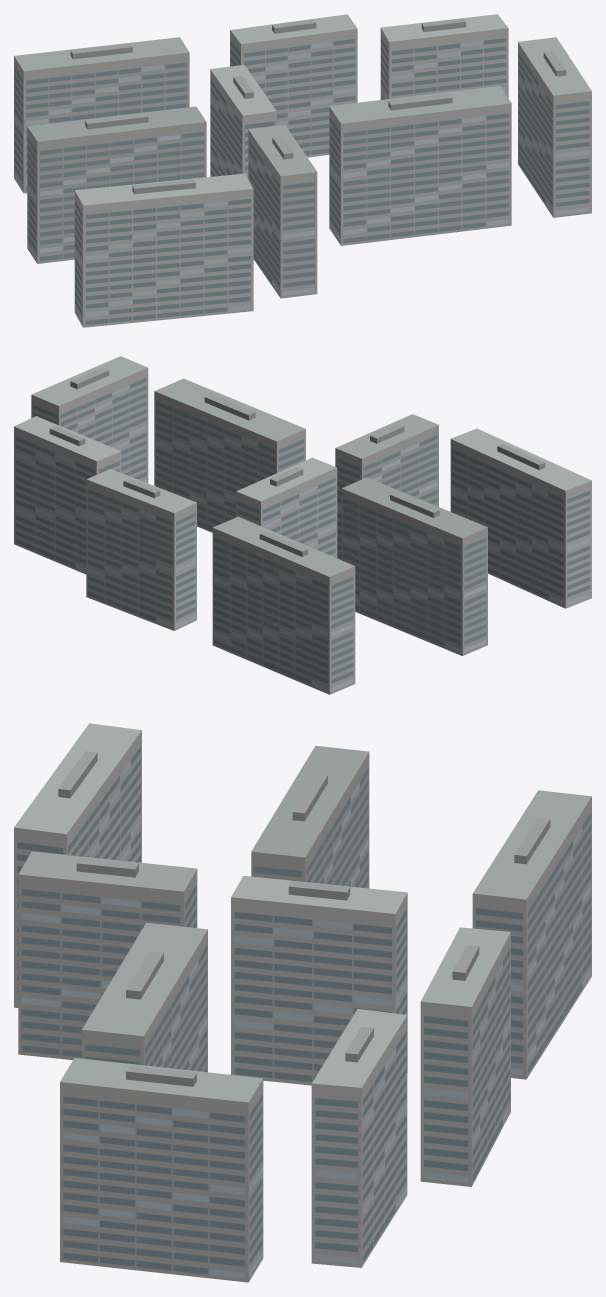
Rendered from apt-a15776414.glb.
3 renders of one model, top to bottom at view 1: azimuth 30°, elevation 25°; view 2: azimuth 150°, elevation 25°; view 3: azimuth 270°, elevation 25°, orthographic. The views are drawn at different scales.
Visible parts, largest first — view 1: apt-a15776414; view 2: apt-a15776414; view 3: apt-a15776414.
Part boxes in pixels (x1,y1,x2,y2): apt-a15776414: (14,14,591,327); apt-a15776414: (14,356,591,694); apt-a15776414: (14,723,591,1282).
Bounding box in the file's own units: 207 × 47.81 × 133.
